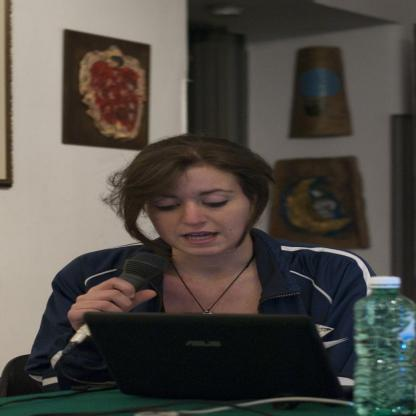board: (82, 310, 357, 404), (354, 275, 416, 416)
